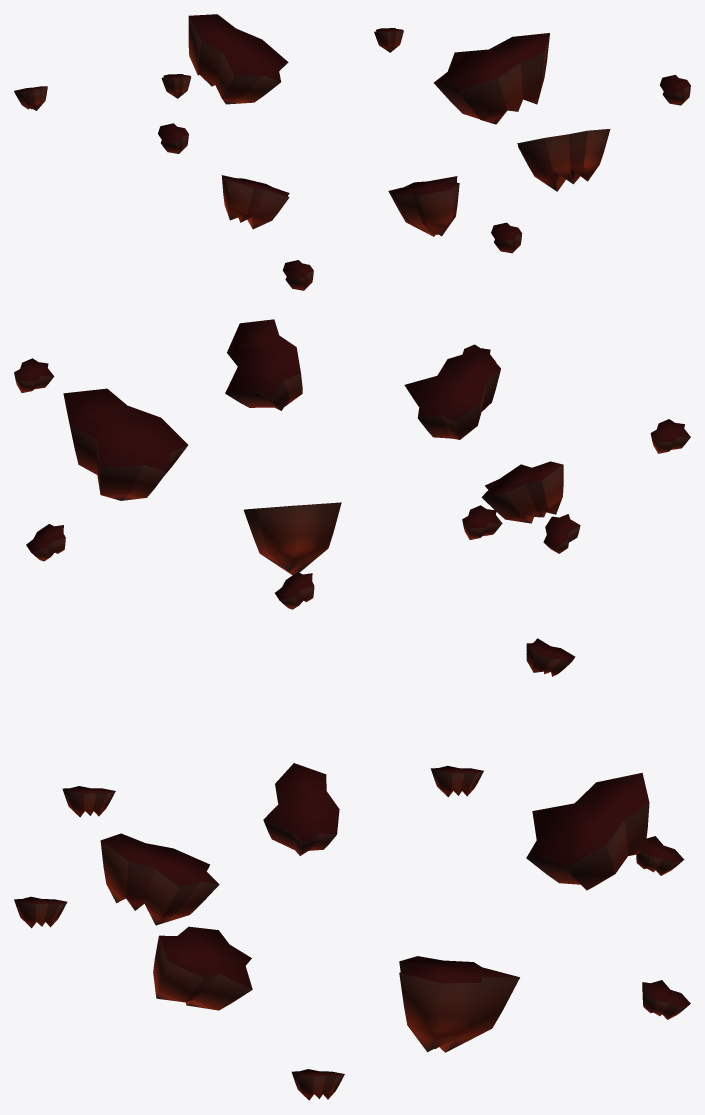
The model's file is dilie_2_big.FBX.
The picture shows the model from 3 angles, top to bottom: view 1: azimuth 30°, elevation 25°; view 2: azimuth 150°, elevation 25°; view 3: azimuth 270°, elevation 25°; orthographic projection. The views are drawn at different scales.
Parts seen in each view (by area): view 1: Object01; view 2: Object01; view 3: Object01.
Boxes of the visible parts, bbox=[...] form: Object01: bbox=[14, 14, 690, 290]; Object01: bbox=[14, 319, 690, 609]; Object01: bbox=[14, 638, 690, 1100].
Bounding box in the file's own units: 87.92 × 16.82 × 70.28.
